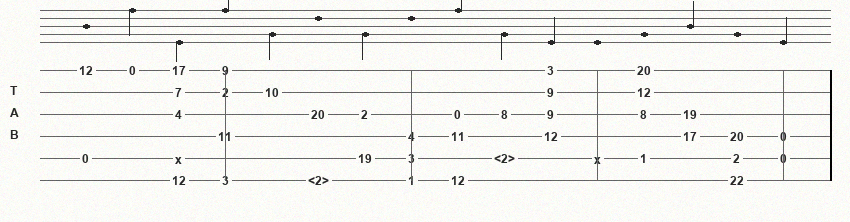0: (82, 152, 93, 165), (129, 64, 140, 77), (454, 108, 465, 121), (780, 130, 791, 143), (780, 152, 791, 165)
1: (408, 174, 419, 187), (640, 152, 651, 165)
10: (265, 86, 283, 99)
11: (218, 130, 236, 143), (451, 130, 469, 143)
12: (79, 64, 97, 77), (172, 174, 190, 187), (451, 174, 469, 187), (544, 130, 562, 143), (637, 86, 655, 99)
17: (172, 64, 190, 77), (683, 130, 701, 143)
19: (358, 152, 376, 165), (683, 108, 701, 121)
2: (222, 86, 233, 99), (361, 108, 372, 121), (733, 152, 744, 165)
20: (311, 108, 329, 121), (637, 64, 655, 77), (730, 130, 748, 143)
22: (730, 174, 748, 187)
3: (222, 174, 233, 187), (408, 152, 419, 165), (547, 64, 558, 77)
4: (175, 108, 186, 121), (408, 130, 419, 143)
7: (175, 86, 186, 99)
8: (501, 108, 512, 121), (640, 108, 651, 121)
9: (222, 64, 233, 77), (547, 86, 558, 99), (547, 108, 558, 121)
harmonic: (308, 174, 333, 187), (494, 152, 519, 165)
x: (175, 153, 186, 164), (594, 153, 605, 164)
